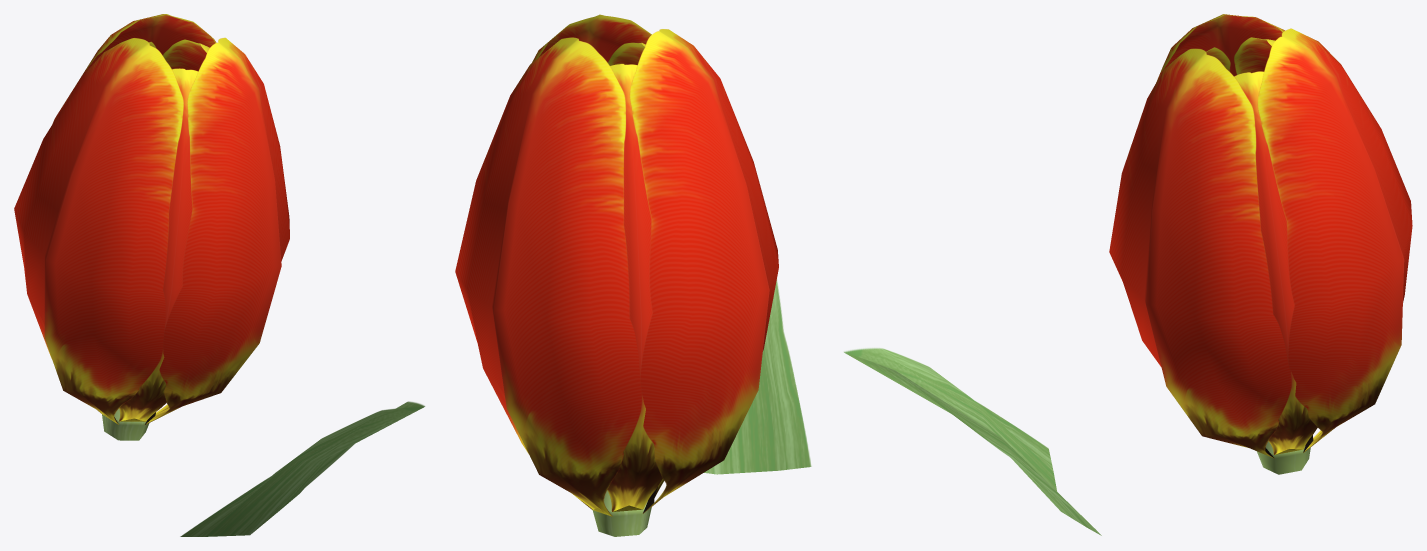
Rendered from tulip.glb.
3 renders of one model, left to right at view 1: azimuth 30°, elevation 25°; view 2: azimuth 150°, elevation 25°; view 3: azimuth 270°, elevation 25°, orthographic. The views are drawn at different scales.
Parts seen in each view (by area): view 1: FlowerHead; view 2: FlowerHead; view 3: FlowerHead.
Boxes of the visible parts, x1,y1,x2,y2 form: FlowerHead: (14,14,424,536); FlowerHead: (455,14,811,536); FlowerHead: (844,14,1412,535).
Bounding box in the file's own units: 0.1543 × 0.2682 × 0.2857.
Materials: 1 (1 with a texture image).
